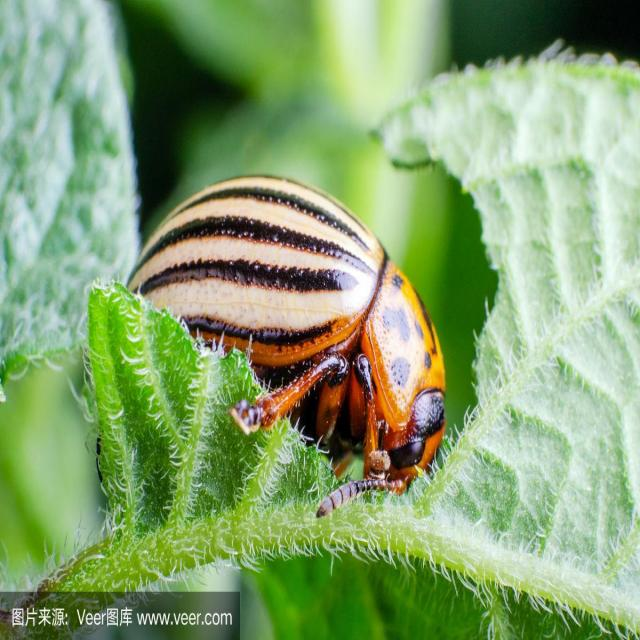ShuCaiHuaBanChong-Grown-: (133, 157, 454, 509)
